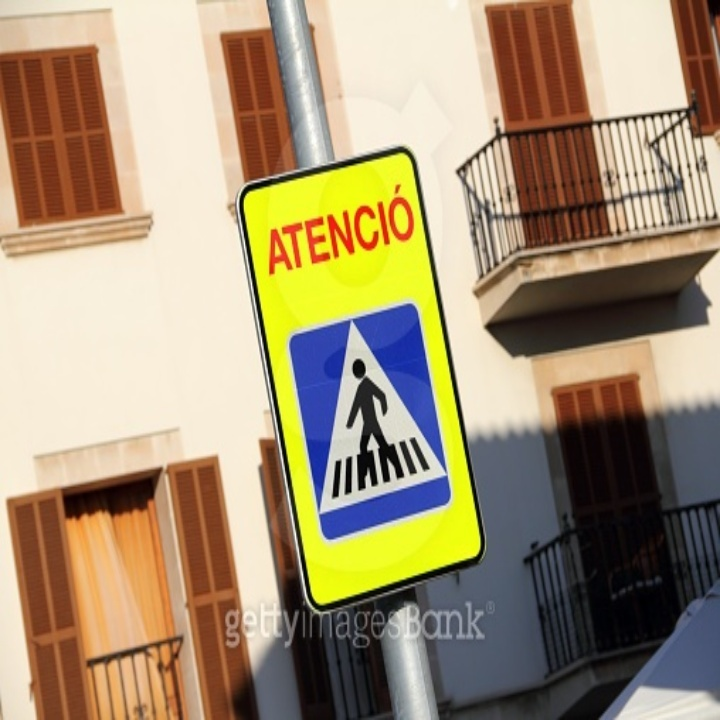cross: (331, 346, 410, 490)
